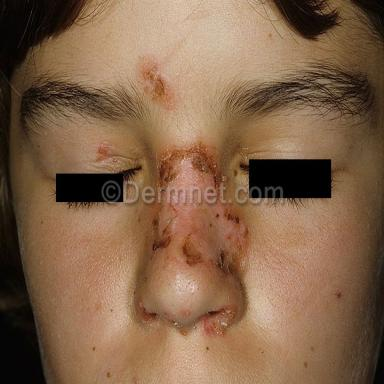Impetigo: (152, 202, 247, 276), (157, 141, 222, 186), (139, 56, 175, 110), (203, 305, 237, 335), (96, 143, 113, 161)
